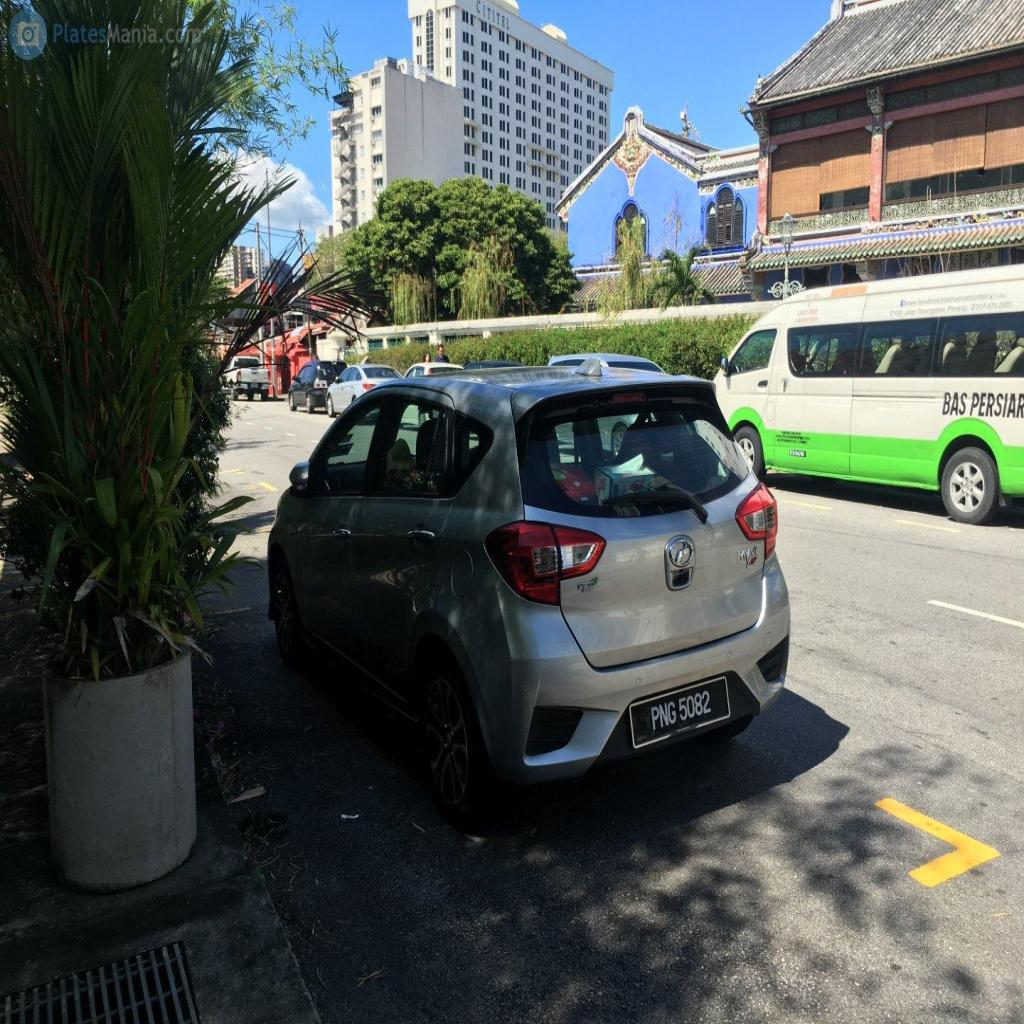car: (268, 361, 789, 815)
car plate: (629, 676, 729, 747)
